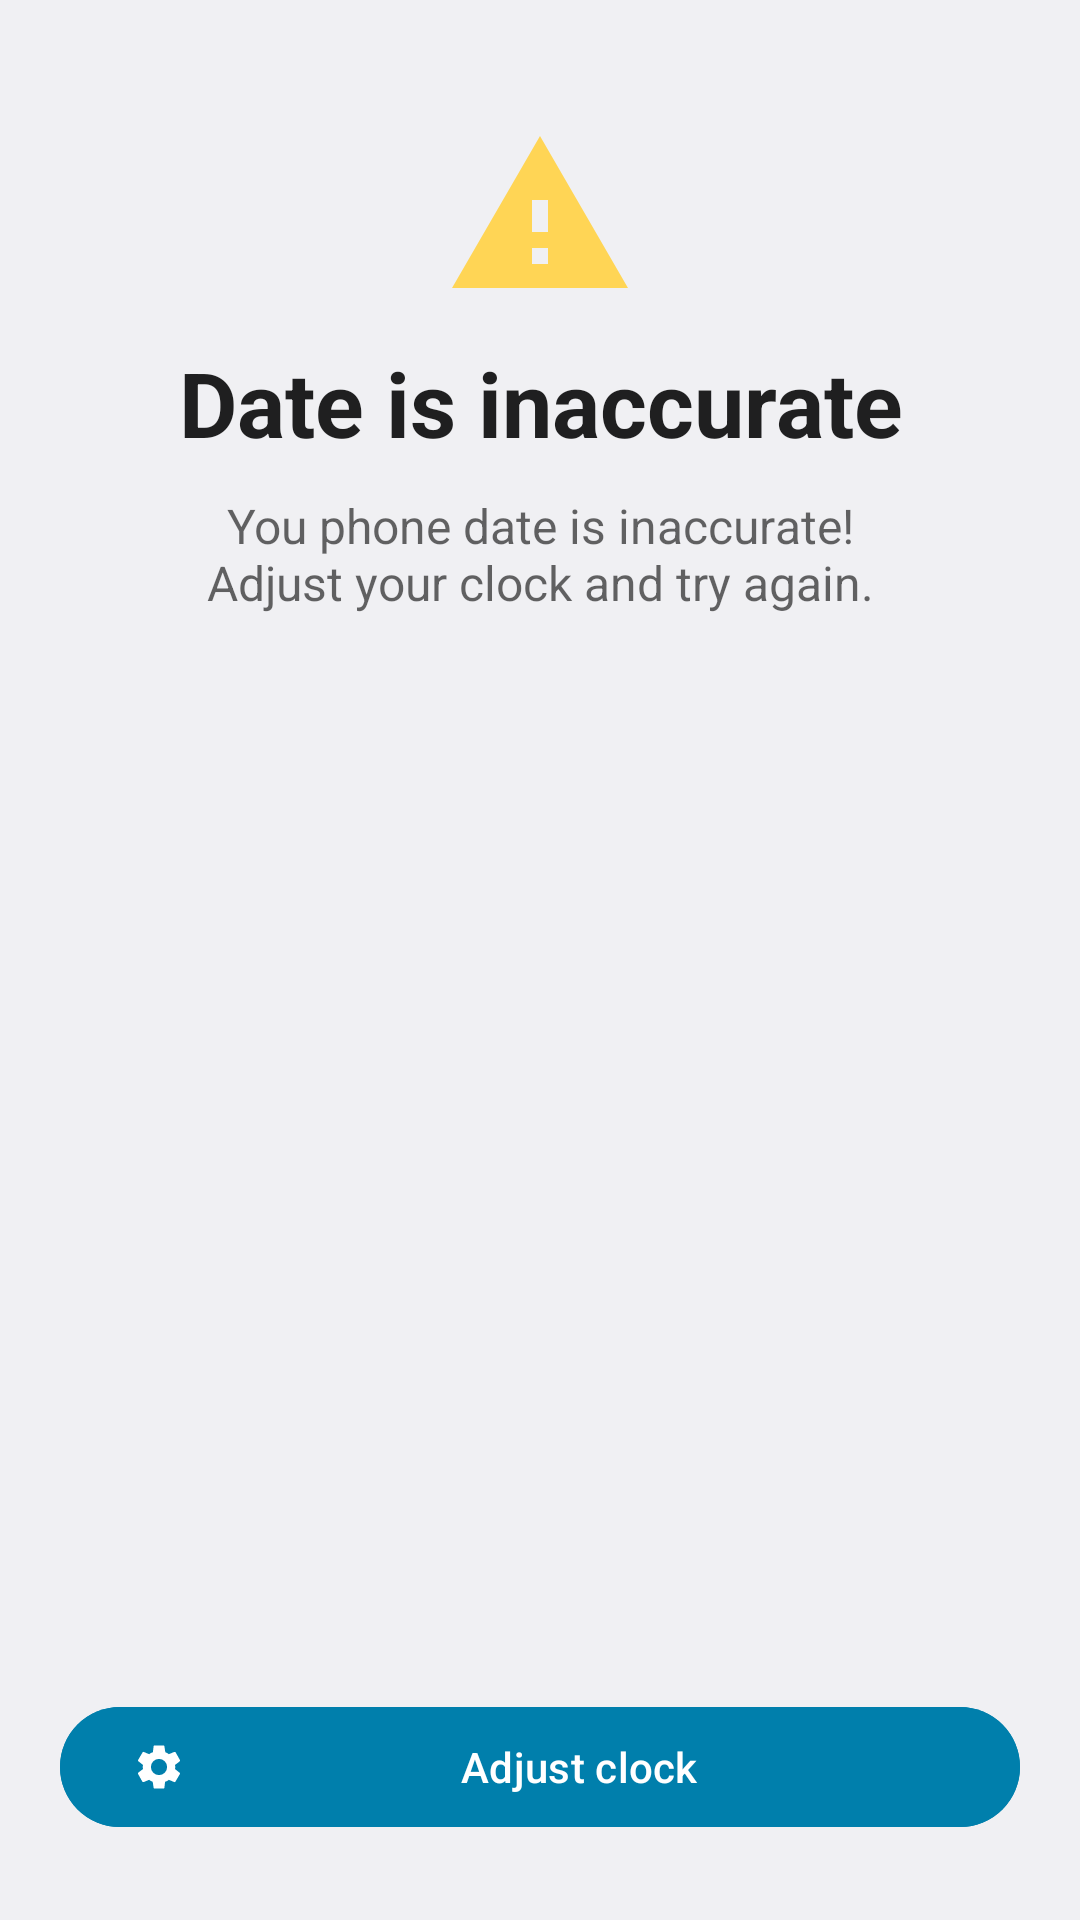

Where to tap for icons on this 1080 x 1920 app screen, as point (x, y):
warning: point (540, 212)
